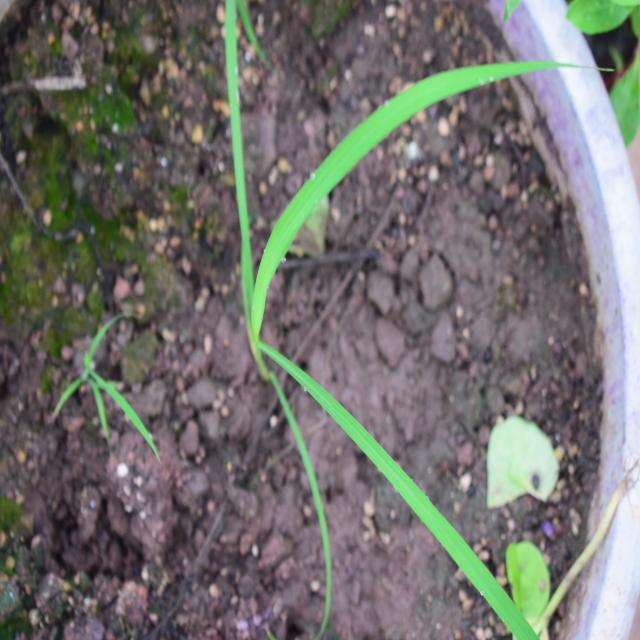barnyard_grass: (193, 19, 544, 628)
